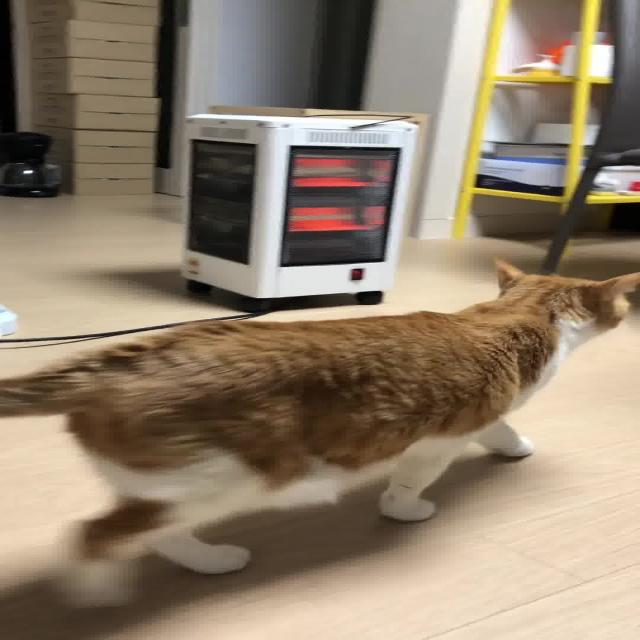cat: (0, 243, 640, 616)
